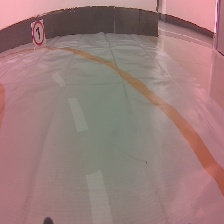limit: (30, 20, 48, 46)
